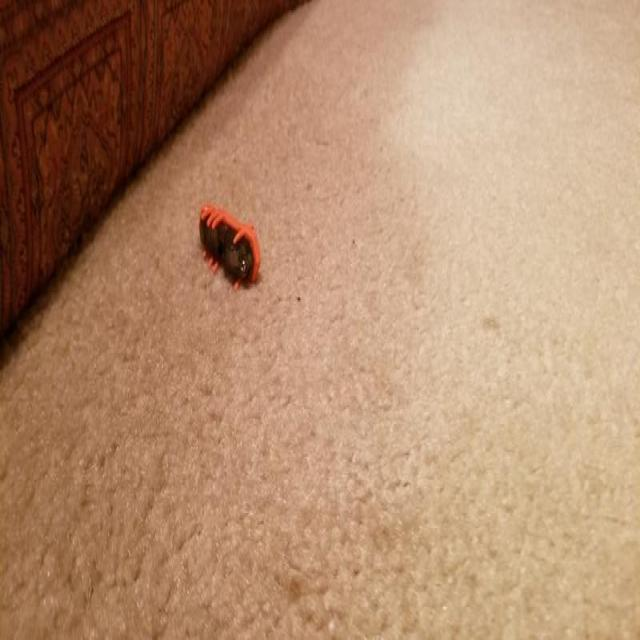toy: (196, 199, 266, 298)
